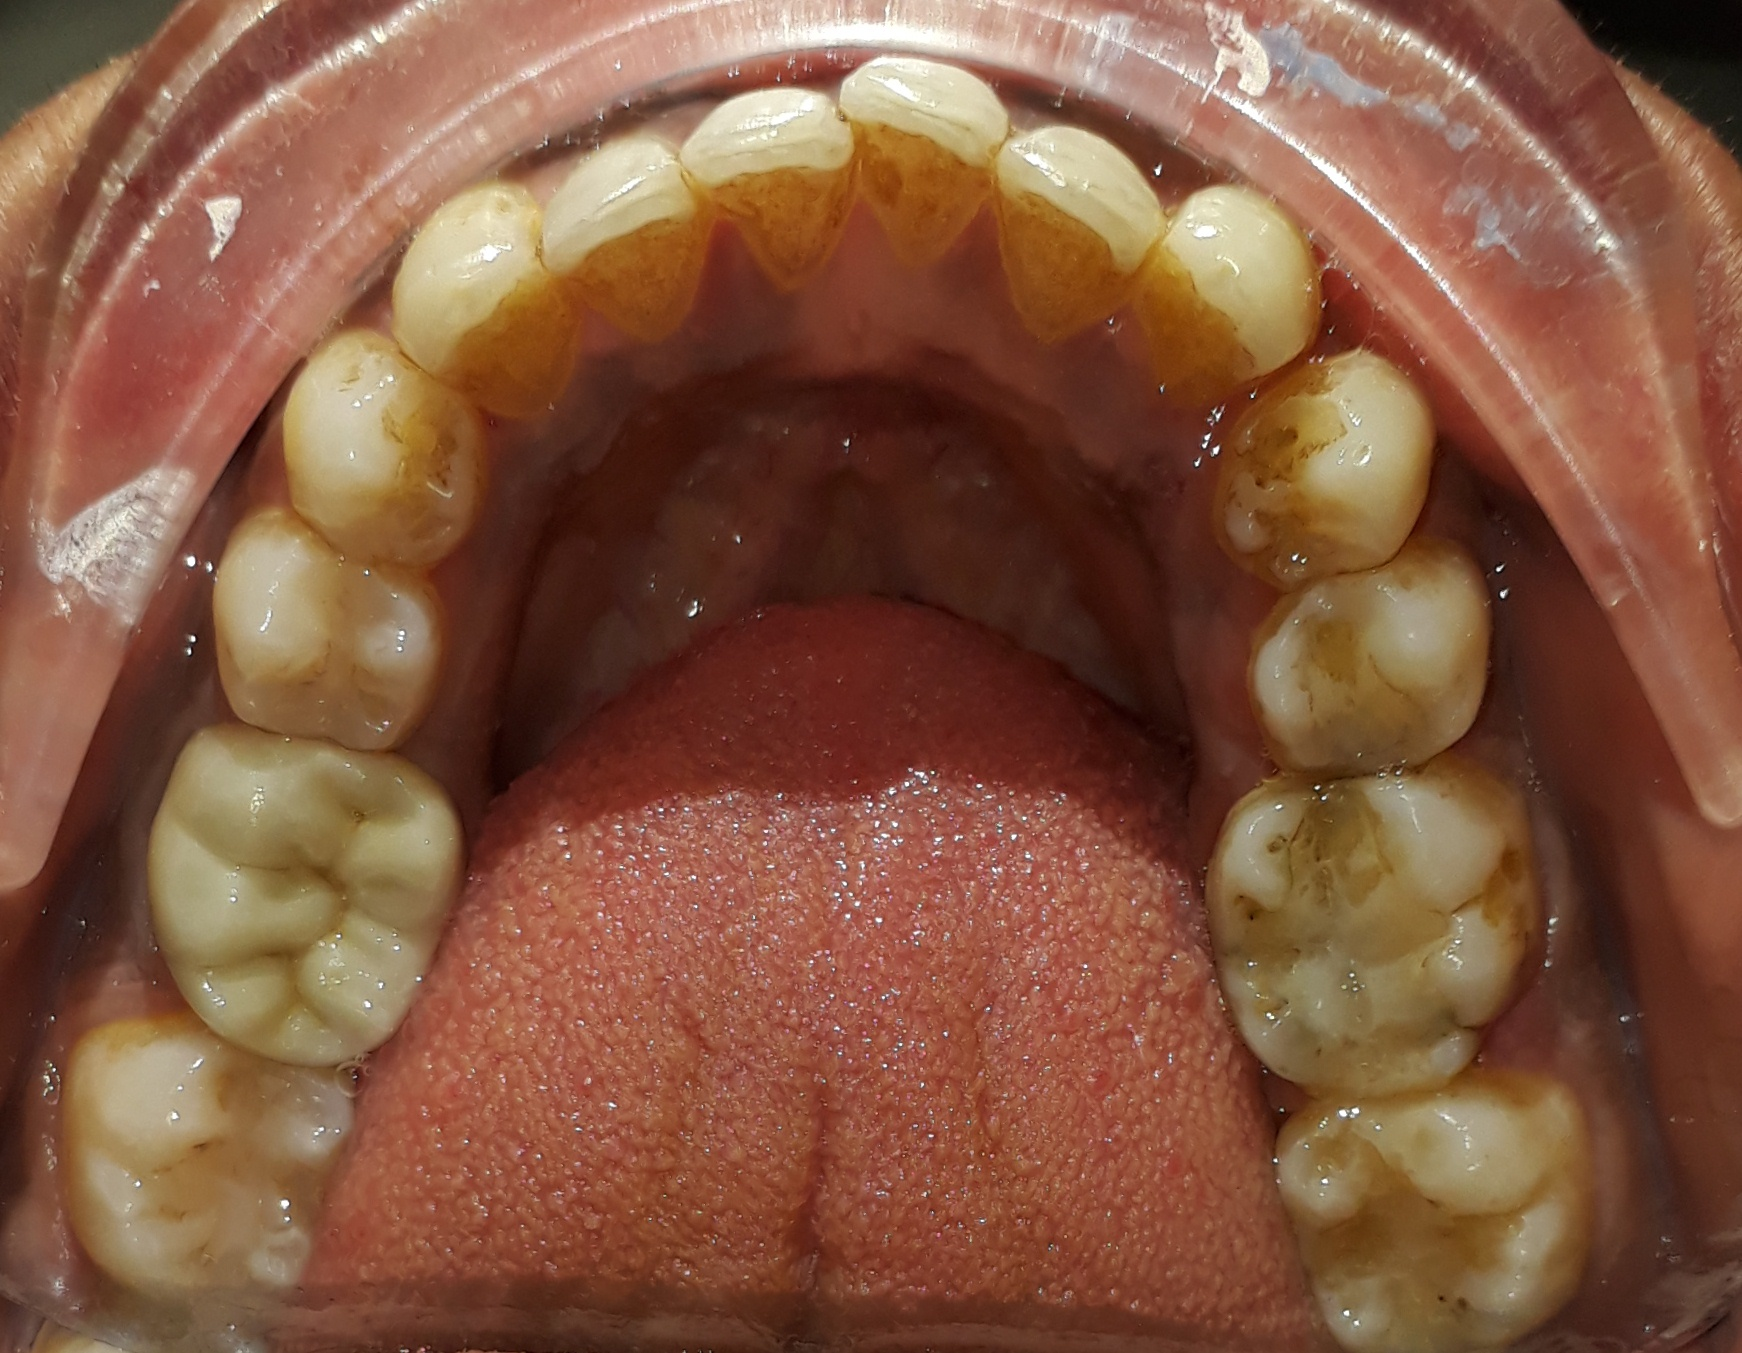1st Molar: (1215, 772, 1560, 1096), (143, 730, 455, 1063)
1st Premolar: (274, 329, 496, 564), (1215, 345, 1444, 571)
2nd Molar: (1280, 1074, 1605, 1350), (57, 1024, 342, 1305)
2nd Premolar: (209, 510, 450, 745), (1249, 551, 1496, 772)
Canine: (375, 182, 584, 416), (1144, 175, 1329, 399)
Central Incisor: (846, 47, 1005, 273), (683, 76, 846, 286)
Lateral Incisor: (1004, 119, 1159, 338), (547, 131, 706, 346)
